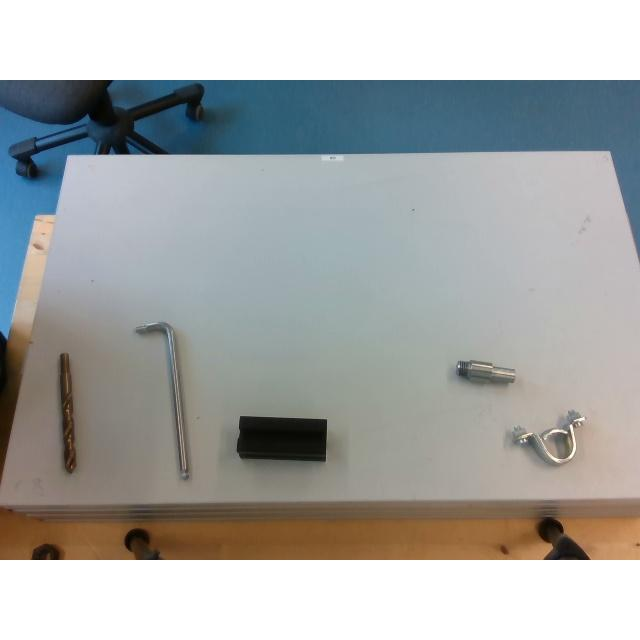AllenKey: (134, 322, 188, 480)
Axis2: (456, 360, 516, 382)
Drill: (60, 352, 76, 472)
Housing: (513, 410, 585, 464)
S40_40_B: (238, 416, 326, 460)
